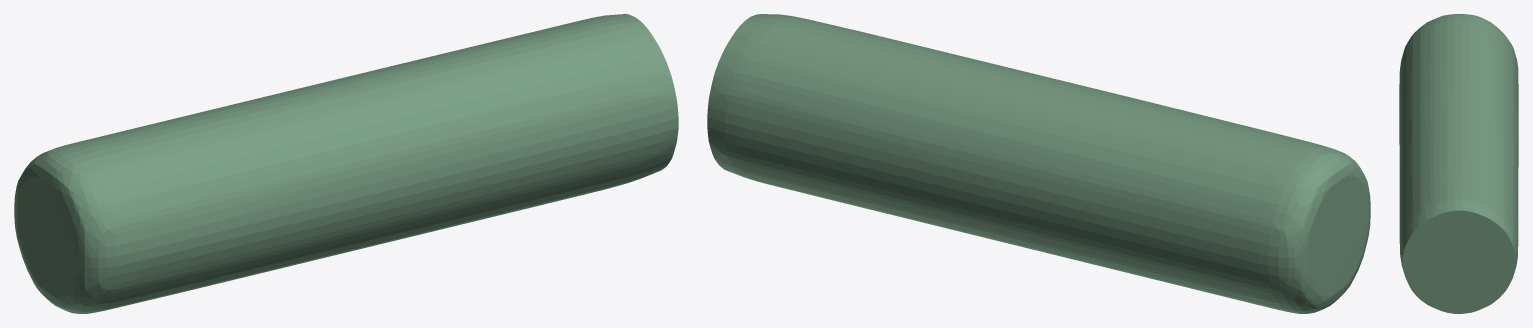
3 renders of one model, left to right at view 1: azimuth 30°, elevation 25°; view 2: azimuth 150°, elevation 25°; view 3: azimuth 270°, elevation 25°, orthographic. The views are drawn at different scales.
Bounding box in the file's own units: 0.0886 × 0.0222 × 0.0222.
